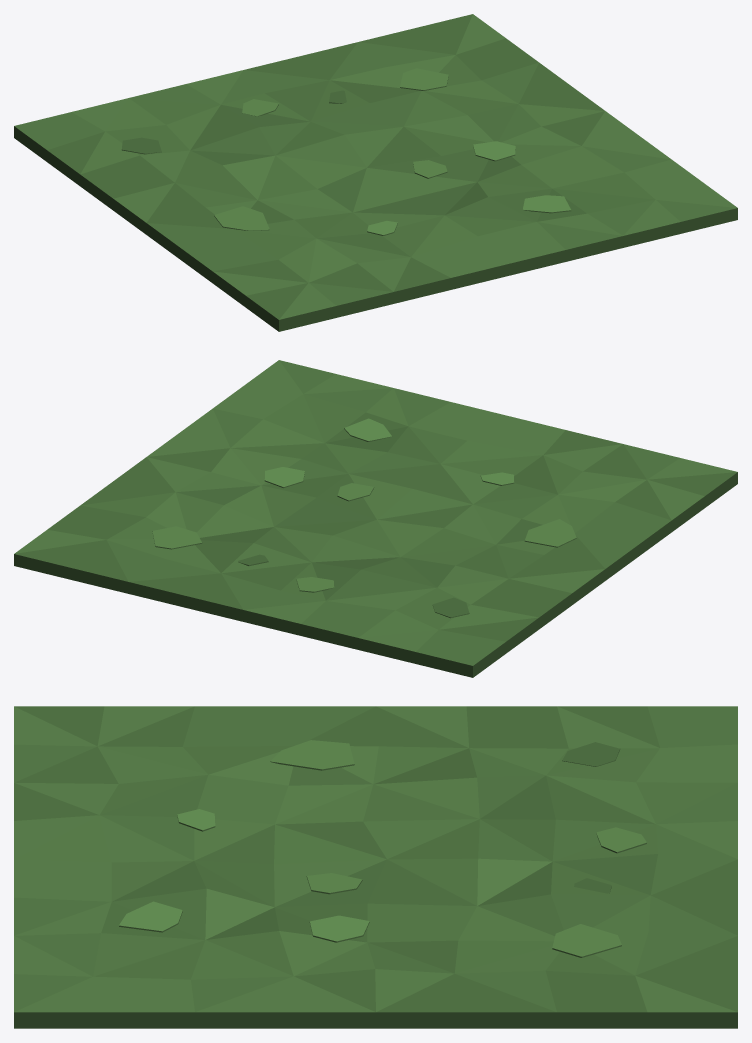
Rendered from ground_grass_b.glb.
3 renders of one model, top to bottom at view 1: azimuth 30°, elevation 25°; view 2: azimuth 150°, elevation 25°; view 3: azimuth 270°, elevation 25°, orthographic. The views are drawn at different scales.
Visible parts, largest first — view 1: ground_grass_b; view 2: ground_grass_b; view 3: ground_grass_b.
Boxes of the visible parts, x1,y1,x2,y2 form: ground_grass_b: [14, 14, 737, 331]; ground_grass_b: [14, 360, 737, 677]; ground_grass_b: [14, 706, 737, 1028].
Bounding box in the file's own units: 4 × 0.1337 × 4.
